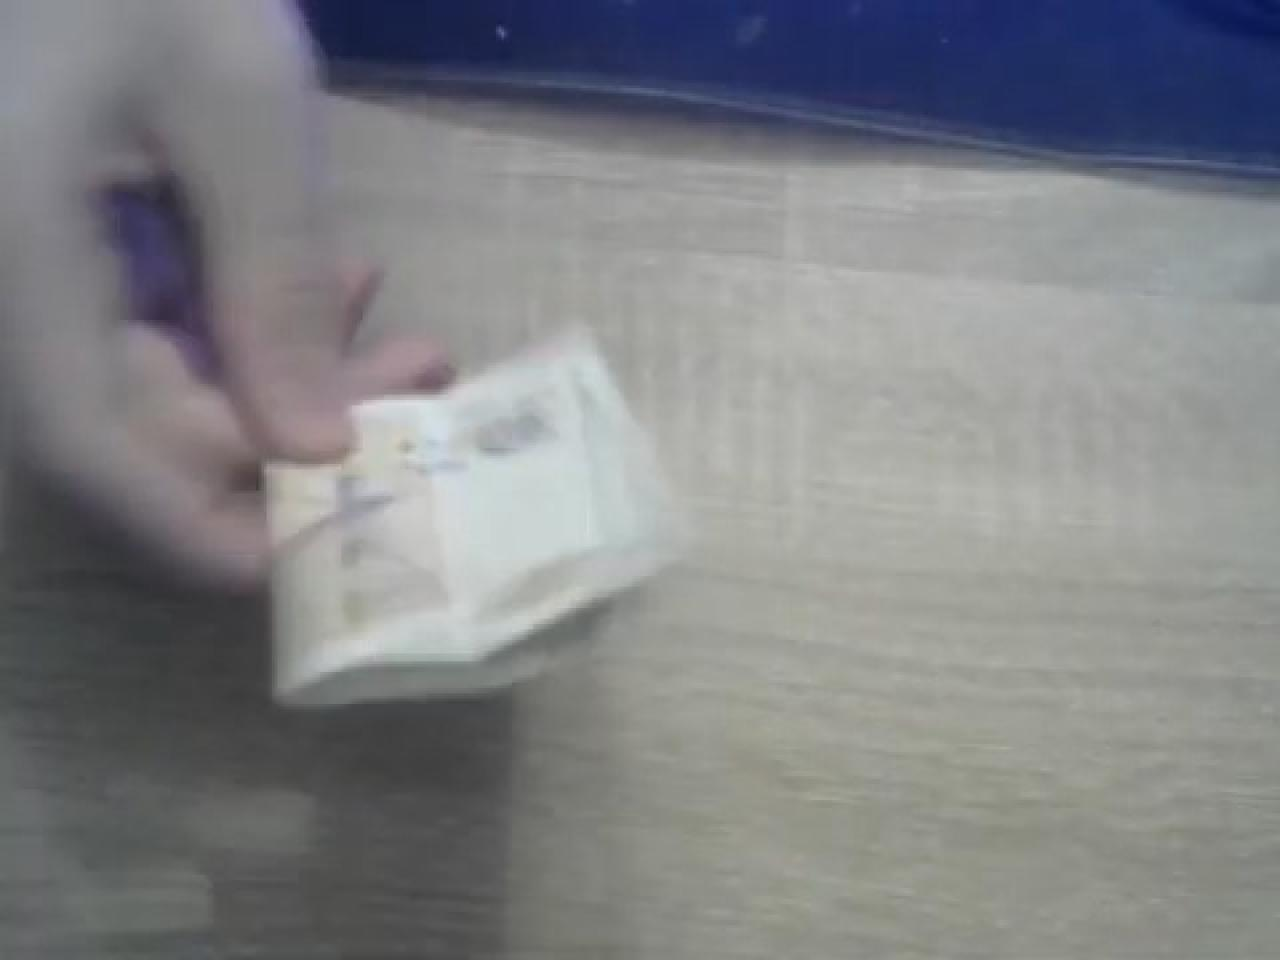10leva: (259, 326, 688, 710)
